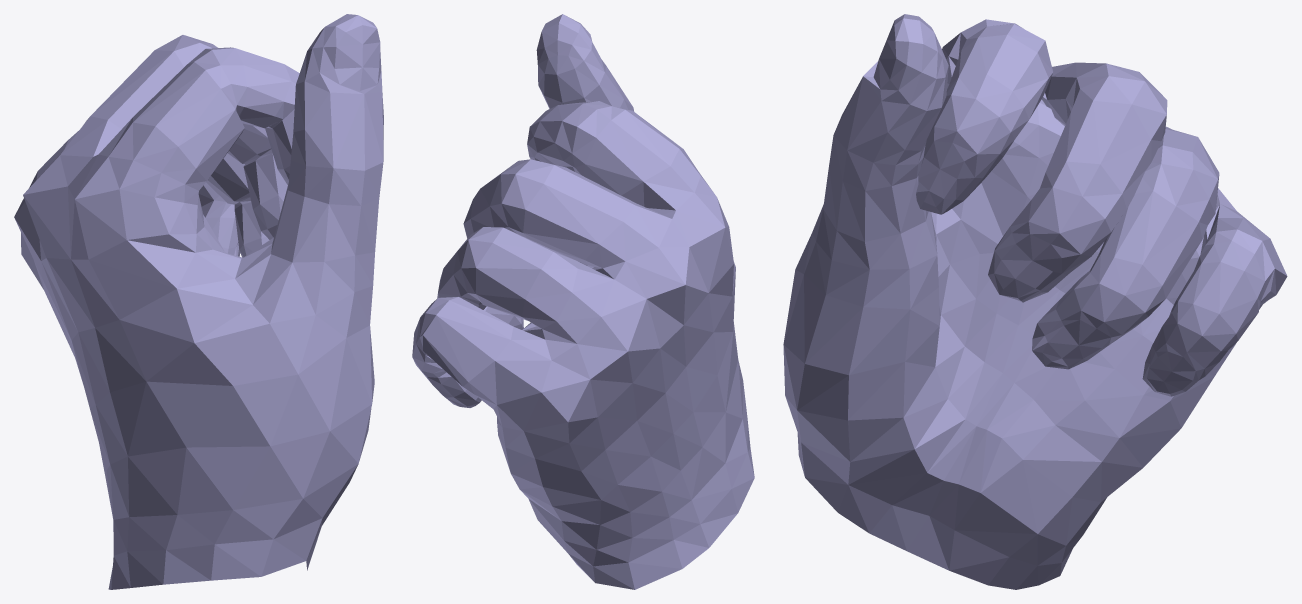
The model's file is frame_0089_source_000089_hand.glb.
The picture shows the model from 3 angles, left to right: view 1: azimuth 30°, elevation 25°; view 2: azimuth 150°, elevation 25°; view 3: azimuth 270°, elevation 25°; orthographic projection. The views are drawn at different scales.
Visible parts, largest first — view 1: world; view 2: world; view 3: world.
Boxes of the visible parts, x1,y1,x2,y2 form: world: (14, 14, 383, 589); world: (412, 14, 754, 589); world: (783, 14, 1287, 589).
Bounding box in the file's own units: 0.0633 × 0.1271 × 0.0944.
